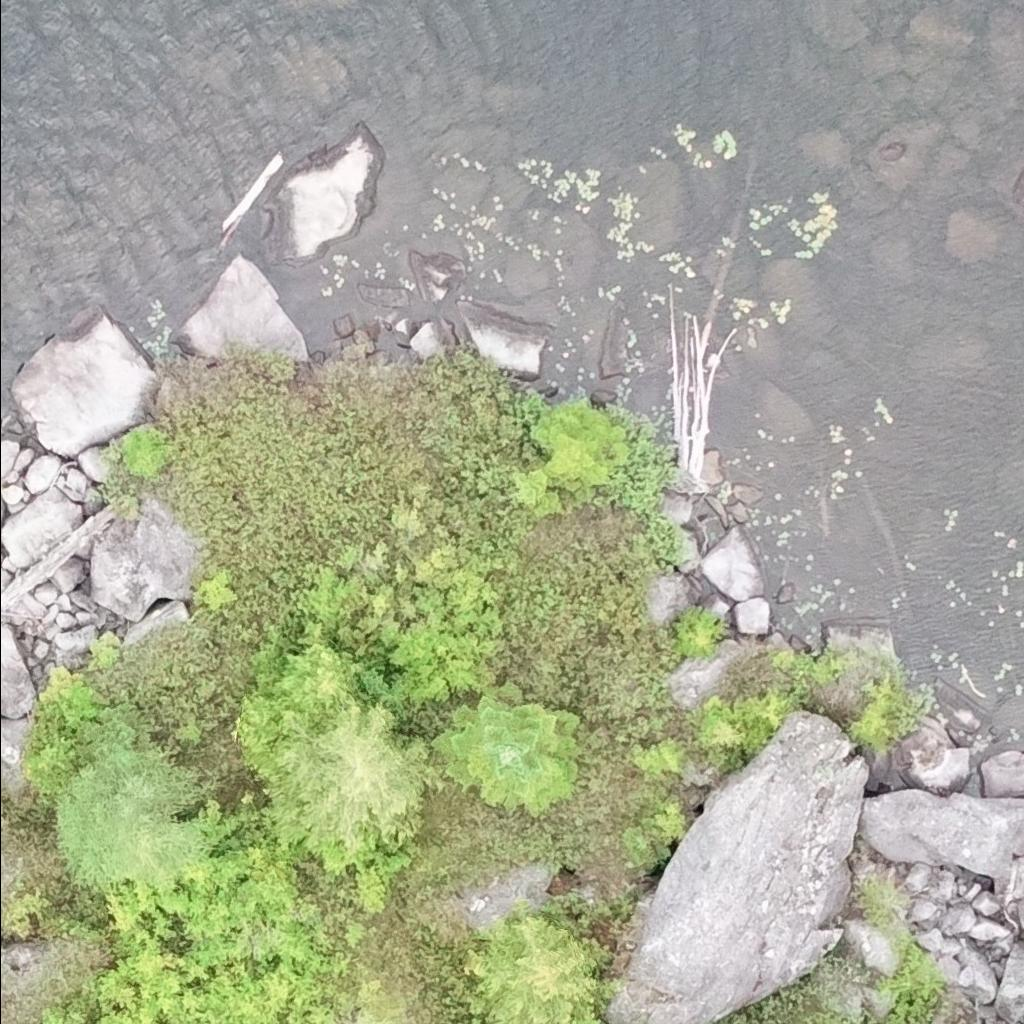crown: (264, 691, 441, 853), (55, 740, 215, 888), (431, 681, 583, 815), (471, 912, 596, 1023)
